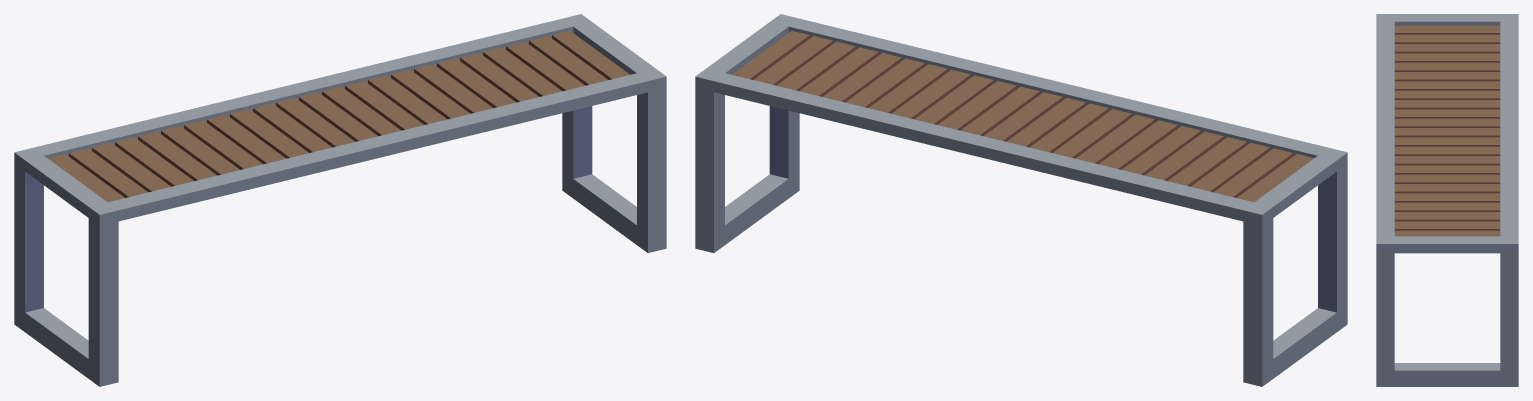
The model's file is Bench.fbx.
The picture shows the model from 3 angles, left to right: view 1: azimuth 30°, elevation 25°; view 2: azimuth 150°, elevation 25°; view 3: azimuth 270°, elevation 25°; orthographic projection. The views are drawn at different scales.
Visible parts, largest first — view 1: Cube.004; view 2: Cube.004; view 3: Cube.004.
Part boxes in pixels (x1,y1,x2,y2): Cube.004: [14, 14, 666, 386]; Cube.004: [695, 14, 1347, 386]; Cube.004: [1376, 14, 1518, 386].
Bounding box in the file's own units: 347 × 101 × 90.64.
